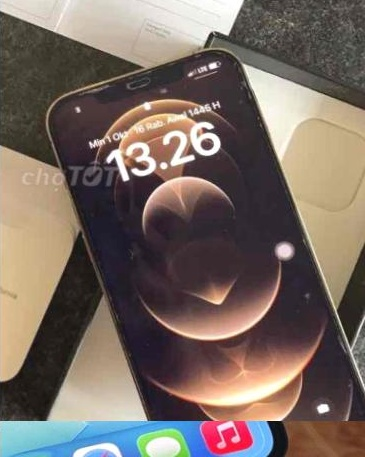physical_damage: (276, 198, 361, 378), (85, 263, 150, 390), (225, 54, 270, 130), (67, 70, 136, 105)
